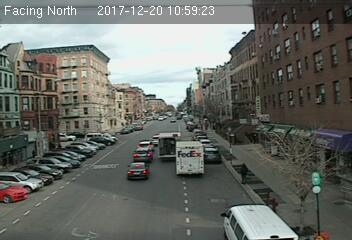car: (126, 162, 150, 179), (133, 148, 153, 163), (204, 146, 221, 163), (137, 140, 154, 150)
pedestrian: (239, 161, 247, 186)
truck: (217, 196, 298, 240), (174, 141, 204, 176), (156, 131, 182, 161)
